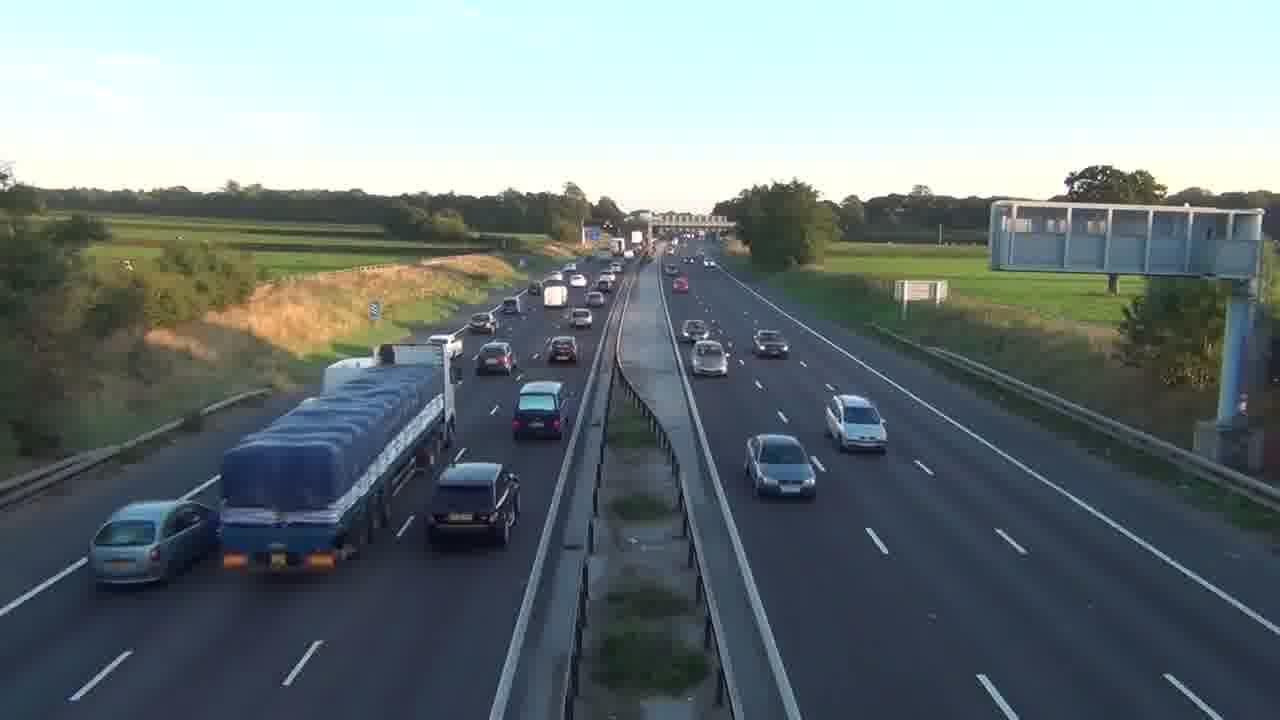bus: (217, 345, 457, 578)
car: (88, 499, 217, 590), (743, 432, 825, 500), (824, 394, 888, 453), (511, 380, 566, 440), (690, 338, 729, 377), (474, 340, 515, 376), (752, 328, 789, 358), (546, 335, 579, 365)
truck: (426, 459, 522, 546)
